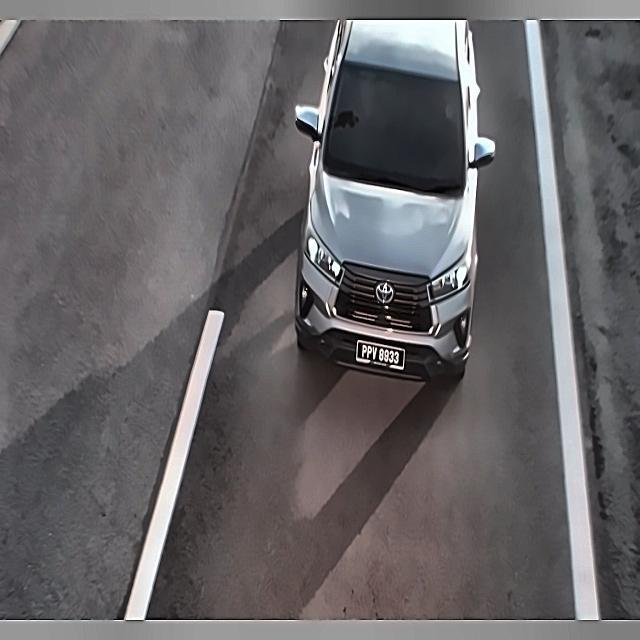car: (352, 330, 420, 377)
